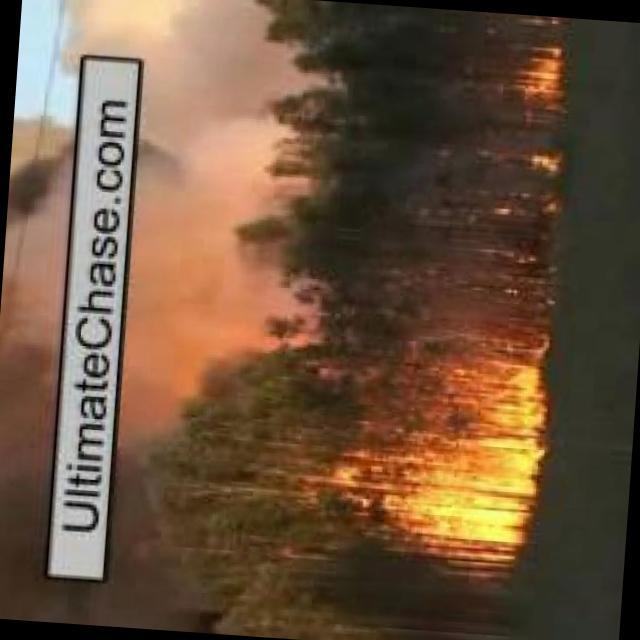Fire: (344, 336, 549, 571), (507, 144, 560, 221), (517, 39, 571, 100)
